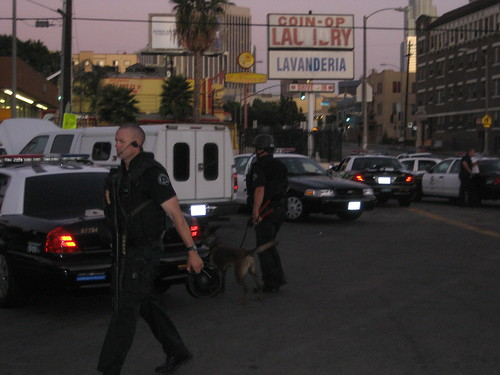animal: (198, 226, 268, 300)
building: (146, 8, 256, 128), (417, 2, 500, 149), (1, 49, 142, 121), (355, 70, 415, 142)
police car: (2, 156, 203, 302), (231, 145, 380, 230), (345, 150, 418, 205), (425, 155, 500, 205)
policeman: (107, 117, 207, 375), (246, 134, 287, 301), (455, 144, 477, 209)
sign: (267, 10, 351, 77)
street: (257, 208, 500, 375)
weapon: (100, 173, 135, 314)
